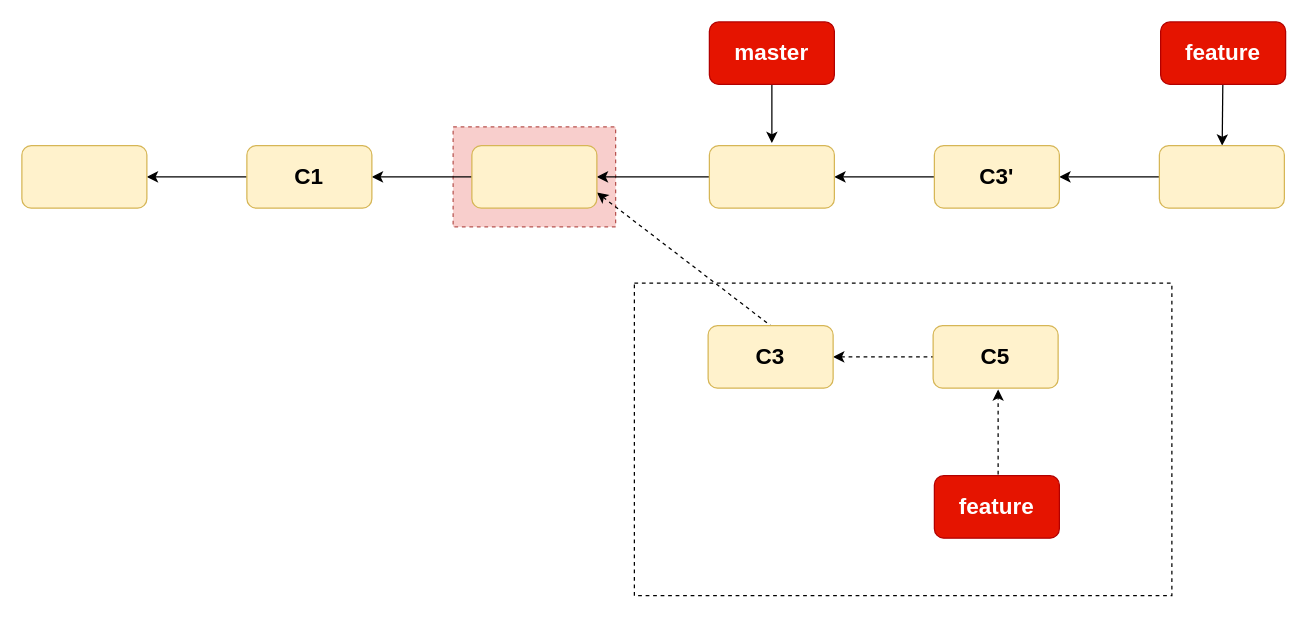
Image size: 1308x618. Some labels were removed from this diagram. The shapes that lost their labels are listed below. From the top down, each one's box as (x1, y1, x2, y2) in pixels, then its label:
(21, 144, 147, 208): C0
(471, 144, 597, 208): C2
(708, 144, 834, 208): C4
(1158, 144, 1284, 208): C5'
